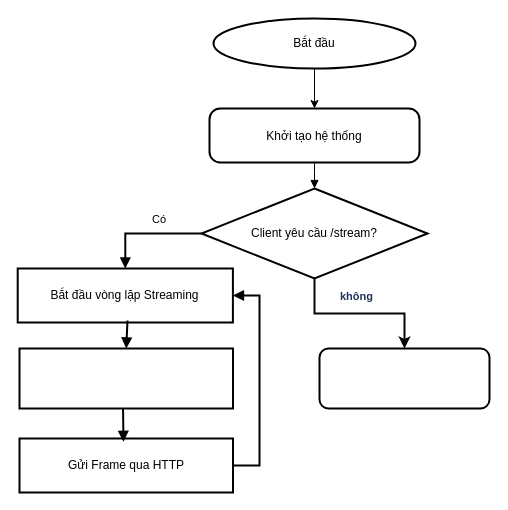
The diagram is 508 pixels wide and 510 high, and some of its shapes have lost their labels. Each missing label, with the box of its shape:
Lấy Frame từ Camera: (18, 347, 234, 409)
Trả về HTML: (318, 347, 490, 409)
